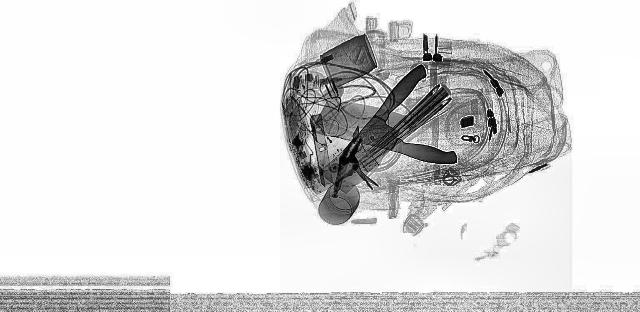Knife: (300, 64, 470, 189), (291, 96, 491, 168)
